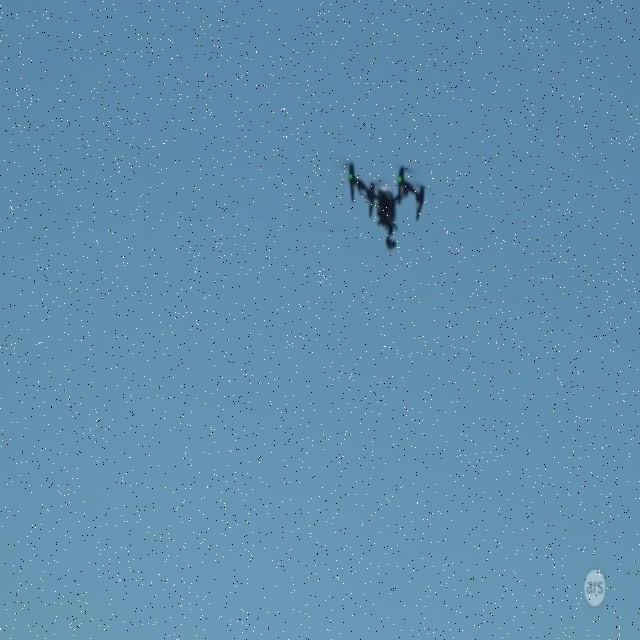UAV: (338, 161, 432, 250)
